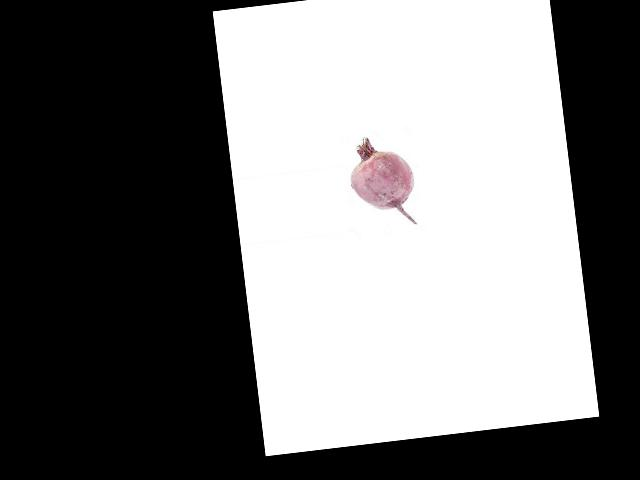beet: (346, 132, 419, 229)
